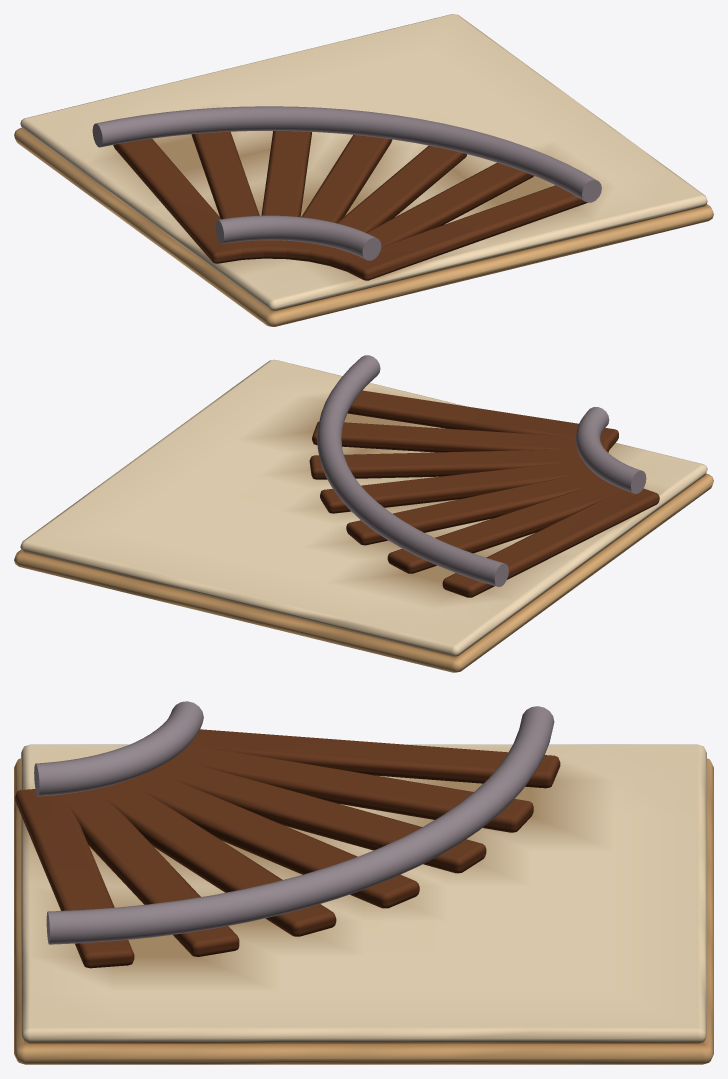
Rendered from tile_rail_corner.glb.
The picture shows the model from 3 angles, top to bottom: view 1: azimuth 30°, elevation 25°; view 2: azimuth 150°, elevation 25°; view 3: azimuth 270°, elevation 25°; orthographic projection. The views are drawn at different scales.
Parts seen in each view (by area): view 1: bed_top, rail1, bed, tie0, tie6, tie1, tie2, rail-1, tie3, tie5, tie4; view 2: bed_top, bed, rail1, tie6, tie0, tie1, tie2, tie3, tie4, tie5, rail-1; view 3: bed_top, rail1, bed, tie6, tie5, tie4, tie3, tie2, tie1, tie0, rail-1.
Part boxes in pixels (<box>): bed_top: <box>20,14,707,310</box>; rail1: <box>92,106,601,202</box>; bed: <box>14,128,713,326</box>; tie0: <box>346,185,587,280</box>; tie6: <box>113,138,242,263</box>; tie1: <box>328,162,533,271</box>; tie2: <box>308,145,466,265</box>; rail-1: <box>215,215,381,260</box>; tie3: <box>285,135,392,261</box>; tie5: <box>191,131,266,259</box>; tie4: <box>261,131,311,259</box>; bed_top: <box>20,359,707,656</box>; bed: <box>14,473,713,672</box>; rail1: <box>317,355,508,586</box>; tie6: <box>442,488,659,597</box>; tie0: <box>347,390,618,449</box>; tie1: <box>312,421,610,452</box>; tie2: <box>309,449,582,479</box>; tie3: <box>320,461,592,513</box>; tie4: <box>346,471,605,545</box>; tie5: <box>387,481,622,573</box>; rail-1: <box>575,407,646,493</box>; bed_top: <box>21,744,706,1043</box>; rail1: <box>46,706,554,944</box>; bed: <box>14,758,713,1064</box>; tie6: <box>189,729,560,788</box>; tie5: <box>173,744,533,832</box>; tie4: <box>152,758,486,873</box>; tie3: <box>123,770,419,908</box>; tie2: <box>96,781,336,936</box>; tie1: <box>60,789,239,956</box>; tie0: <box>15,789,134,968</box>; rail-1: <box>34,701,203,796</box>.
Size of the model in its own units: 4 by 0.515 by 4.
